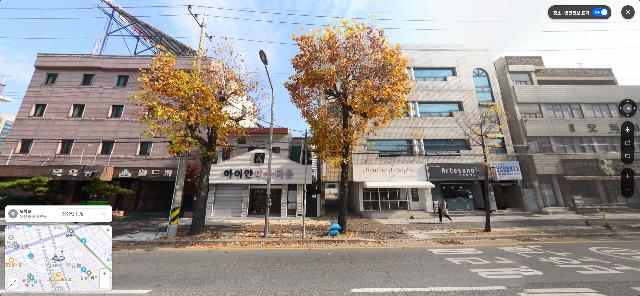other: (283, 17, 416, 236), (128, 35, 269, 236), (450, 96, 519, 232)
